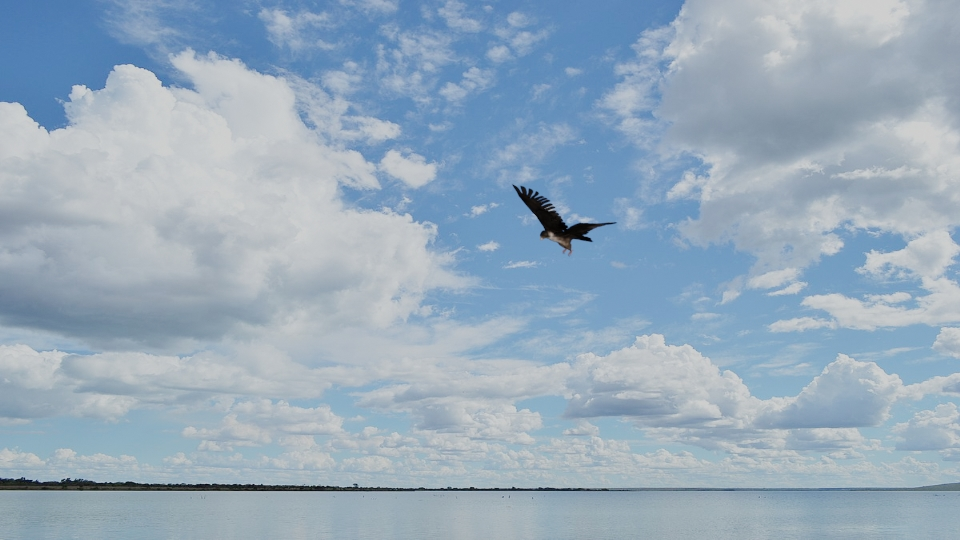bird: (511, 183, 618, 255)
